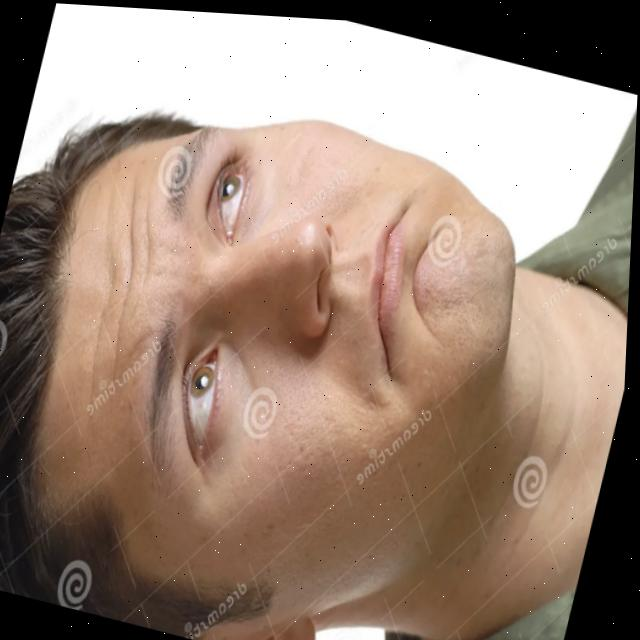sad: (34, 62, 573, 600)
